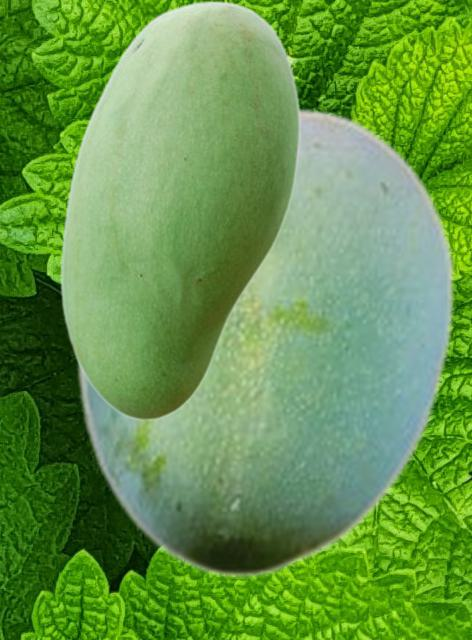green_mango: (75, 106, 455, 577), (59, 0, 299, 420)
